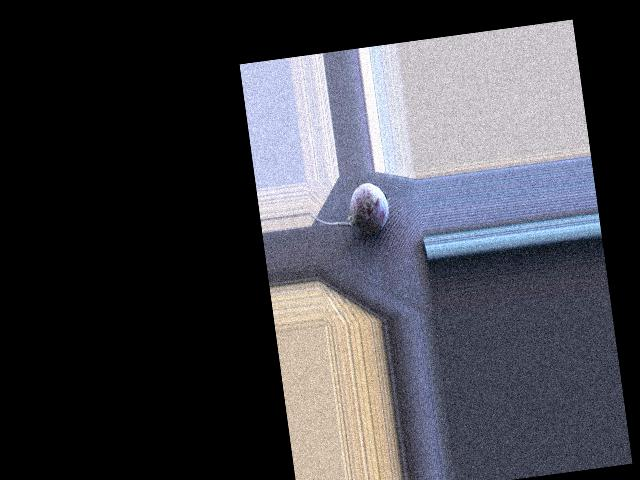beet: (307, 181, 391, 242)
